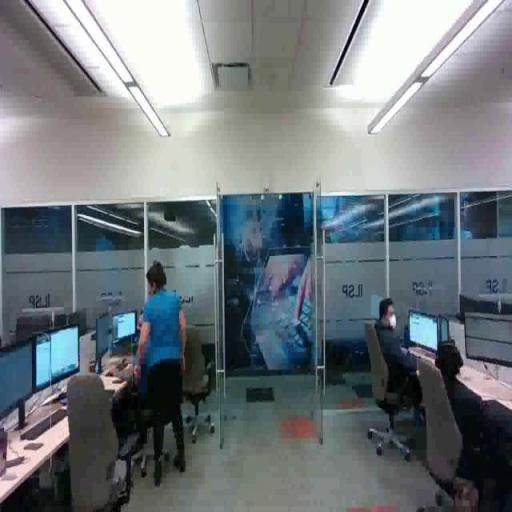person: (132, 254, 193, 487), (371, 295, 450, 417)
